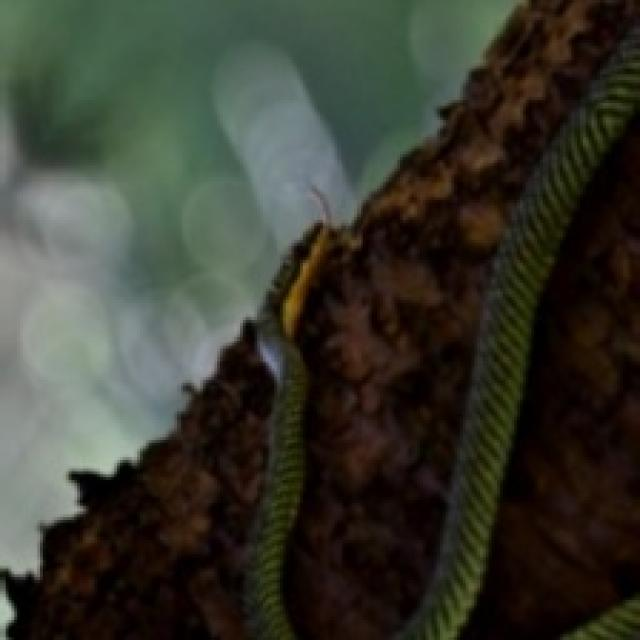paradise tree snake: (266, 0, 637, 637), (463, 406, 637, 637)
